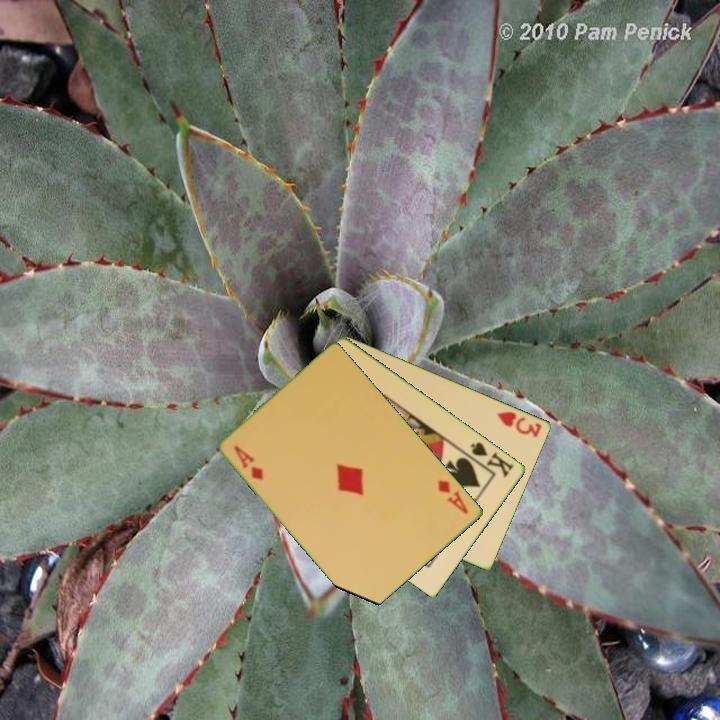3h: (494, 408, 545, 440)
Ad: (435, 476, 472, 517), (231, 442, 267, 483)
Ks: (463, 438, 517, 481)
